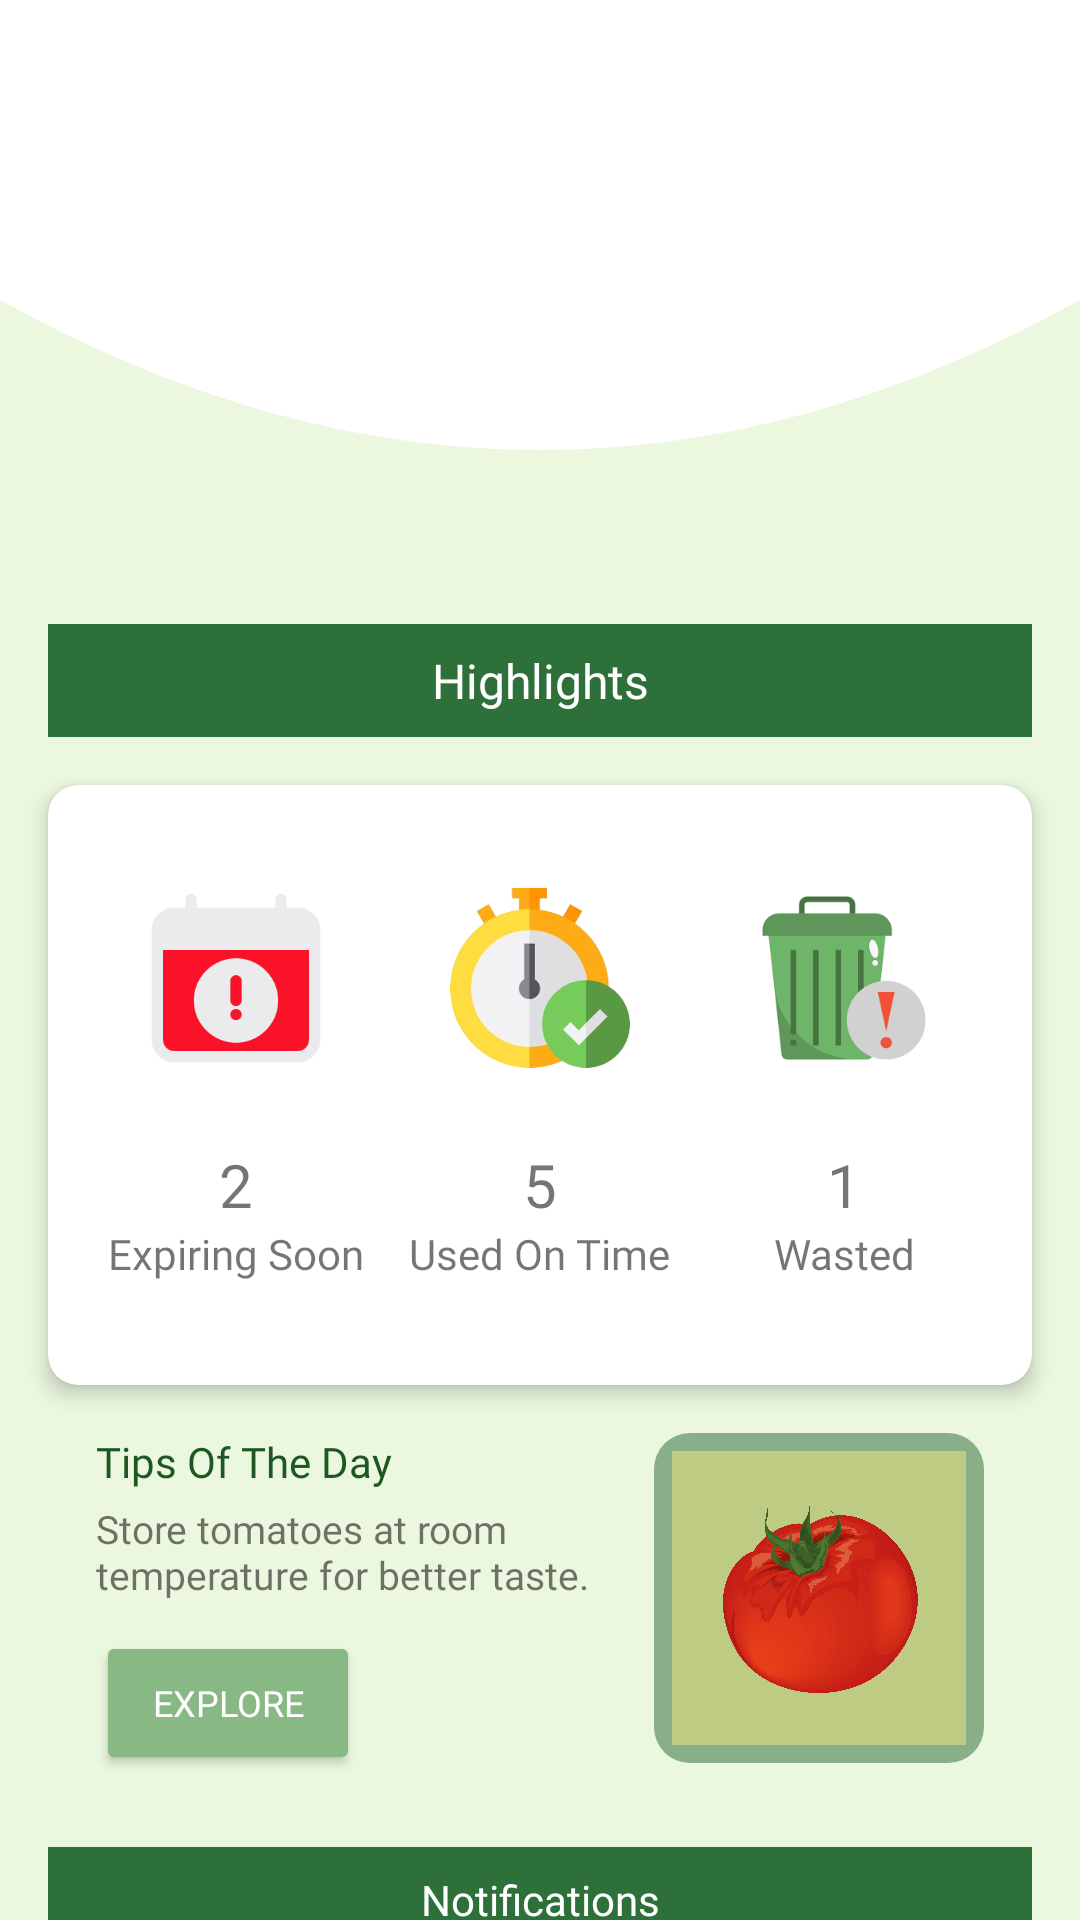

Named icons in this screenshot (1080px x 1920px) and their centers, (x=x, y=y):
bin: (x=843, y=978)
expired: (x=236, y=1000)
ontime: (x=540, y=978)
